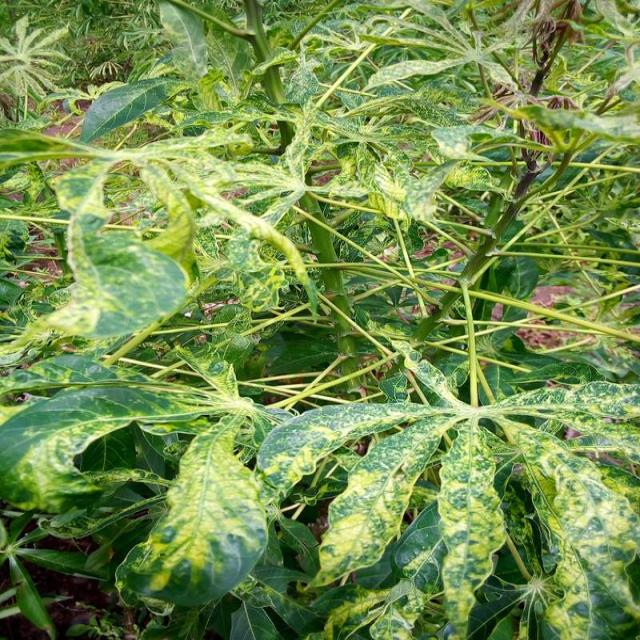Mosaico: (9, 314, 312, 581), (294, 362, 640, 579), (30, 111, 346, 270)
